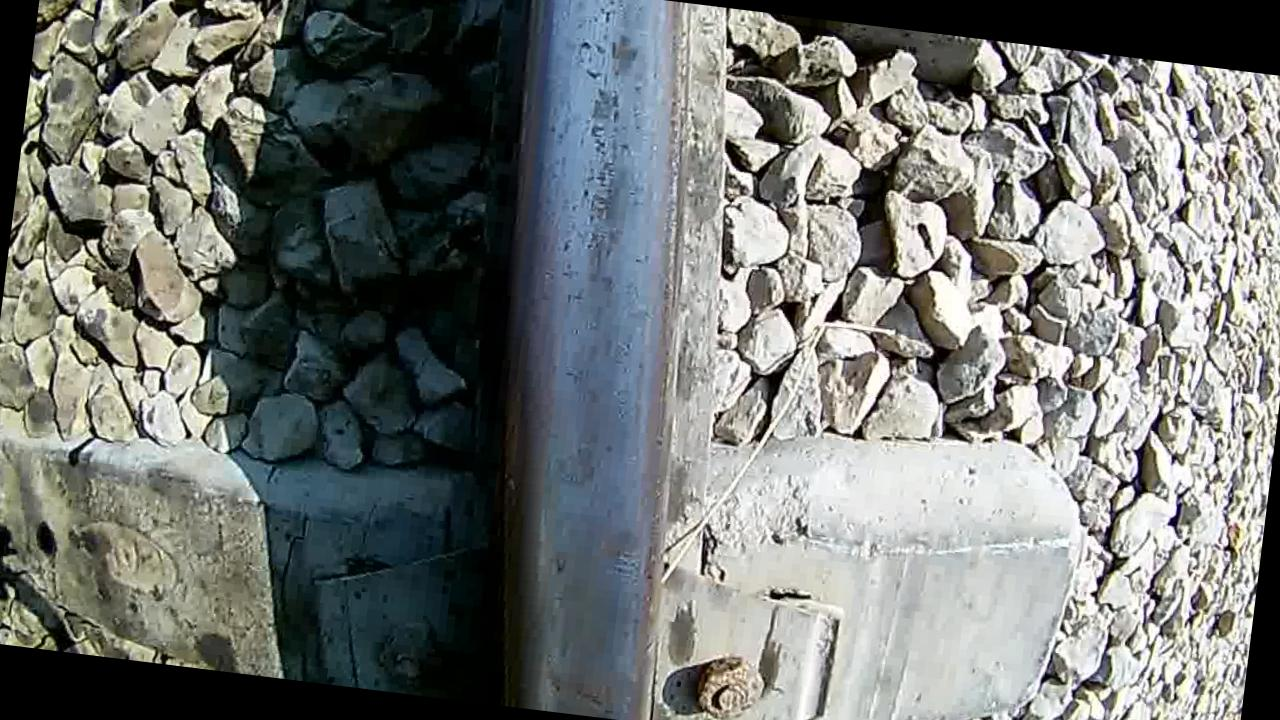crack: (445, 0, 736, 720)
